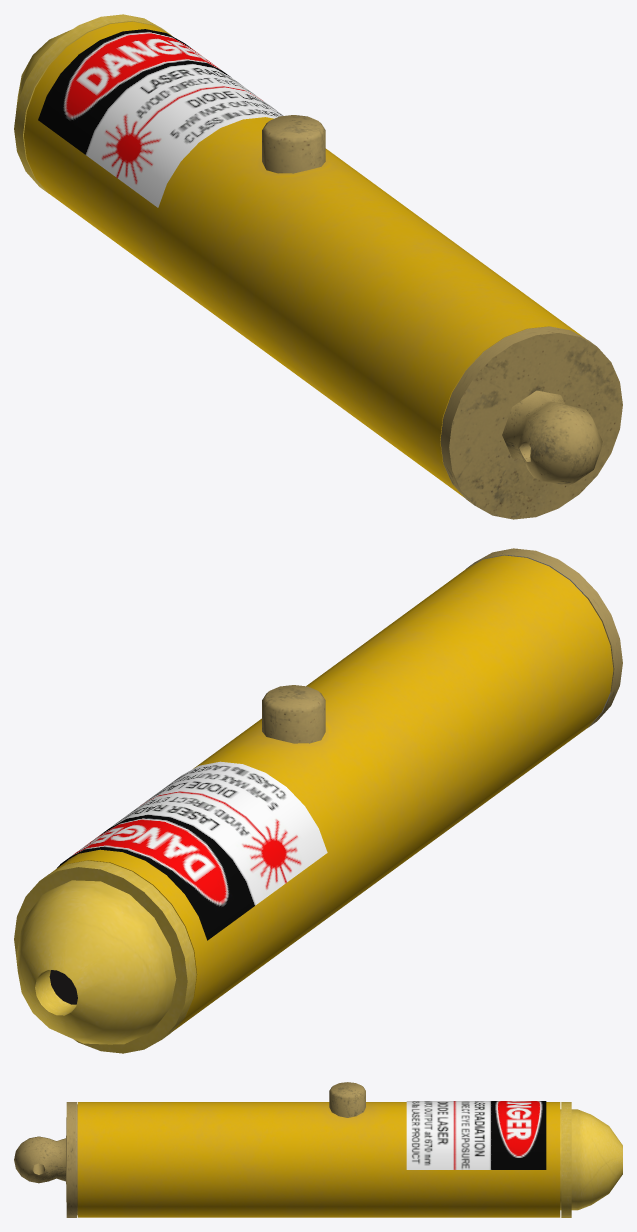
Rendered from laserpointer.glb.
3 renders of one model, top to bottom at view 1: azimuth 30°, elevation 25°; view 2: azimuth 150°, elevation 25°; view 3: azimuth 270°, elevation 25°, orthographic. The views are drawn at different scales.
Visible parts, largest first — view 1: Base.003, Bottom.002, Label.001, Button.002, Top_ring.002; view 2: Base.003, Label.001, Top.001, Top_ring.002, Button.002, Bottom.002; view 3: Base.003, Label.001, Top.001, Bottom.002, Top_ring.002, Button.002.
Boxes of the visible parts, left/top/right/bottom form: Base.003: left=24, top=21, right=585, bottom=497; Bottom.002: left=440, top=326, right=622, bottom=519; Label.001: left=38, top=29, right=283, bottom=207; Button.002: left=262, top=115, right=325, bottom=173; Top_ring.002: left=14, top=14, right=170, bottom=193; Base.003: left=50, top=555, right=613, bottom=1031; Label.001: left=57, top=761, right=327, bottom=940; Top.001: left=16, top=880, right=176, bottom=1044; Top_ring.002: left=14, top=860, right=196, bottom=1053; Button.002: left=262, top=685, right=325, bottom=743; Bottom.002: left=466, top=548, right=622, bottom=727; Base.003: left=77, top=1102, right=560, bottom=1217; Label.001: left=406, top=1101, right=546, bottom=1169; Top.001: left=560, top=1109, right=622, bottom=1210; Bottom.002: left=14, top=1102, right=77, bottom=1217; Top_ring.002: left=561, top=1102, right=571, bottom=1217; Button.002: left=329, top=1082, right=365, bottom=1117.
Bounding box in the file's own units: 0.2663 × 0.3121 × 1.39.
1 material, 1 textured.
